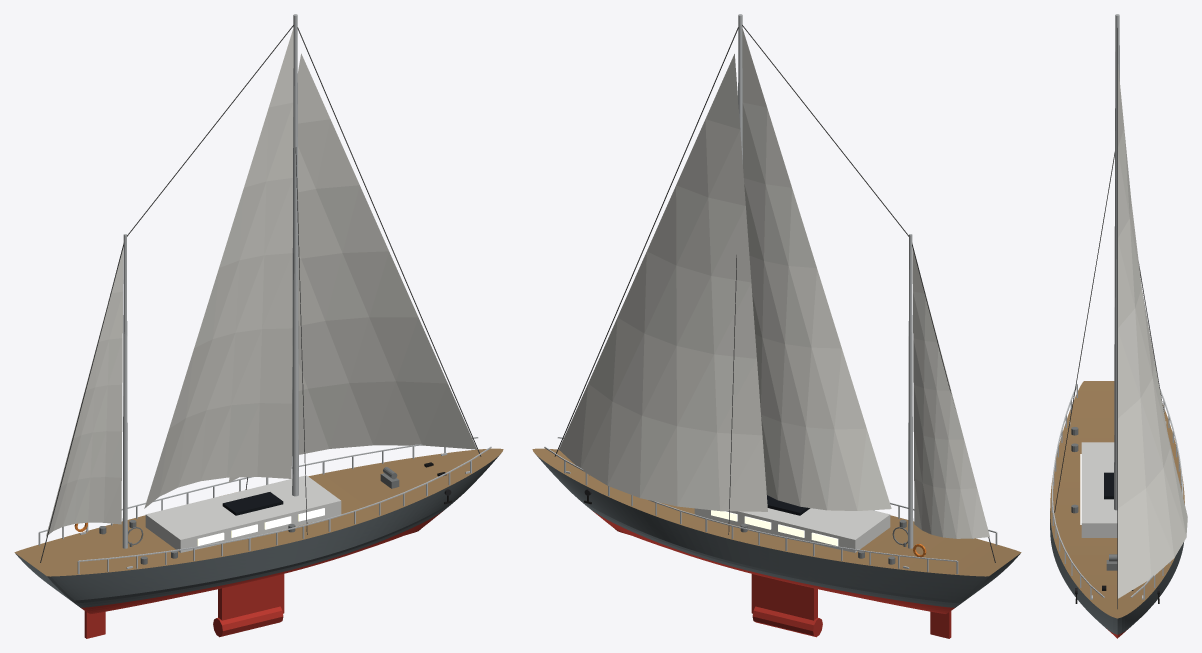
Rendered from ketch25.glb.
3 renders of one model, left to right at view 1: azimuth 30°, elevation 25°; view 2: azimuth 150°, elevation 25°; view 3: azimuth 270°, elevation 25°, orthographic. The views are drawn at different scales.
Parts seen in each view (by area): view 1: ketch25; view 2: ketch25; view 3: ketch25.
Boxes of the visible parts, bbox=[...] form: ketch25: bbox=[14, 14, 503, 638]; ketch25: bbox=[532, 14, 1021, 638]; ketch25: bbox=[1050, 14, 1187, 638].
Bounding box in the file's own units: 25 × 30.43 × 6.13.
